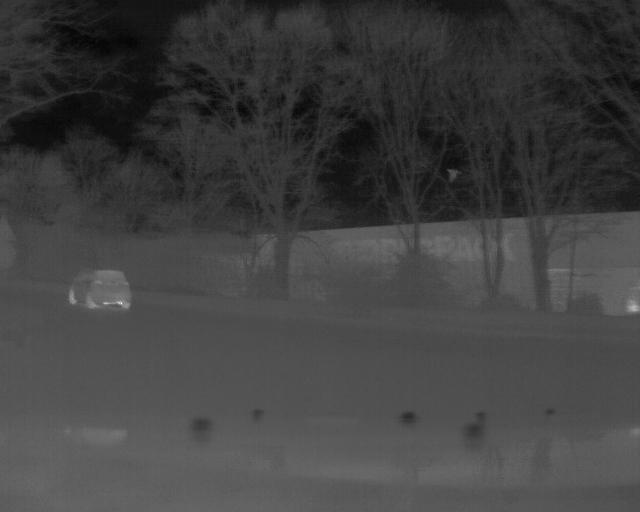car: (62, 266, 135, 308)
